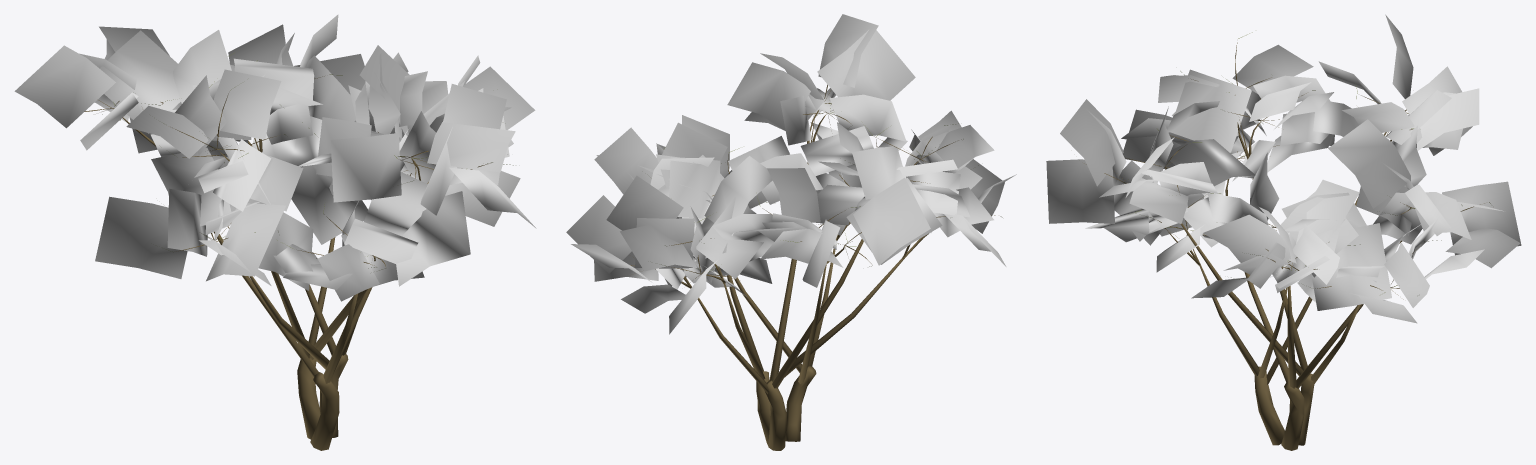
Rendered from V7_Lentisque_2_Niveau2.fbx.
3 renders of one model, left to right at view 1: azimuth 30°, elevation 25°; view 2: azimuth 150°, elevation 25°; view 3: azimuth 270°, elevation 25°, orthographic. The views are drawn at different scales.
Parts seen in each view (by area): view 1: V7_Lentisque_2_Detail2; view 2: V7_Lentisque_2_Detail2; view 3: V7_Lentisque_2_Detail2.
Boxes of the visible parts, left/top/right/bottom form: V7_Lentisque_2_Detail2: left=14, top=14, right=536, bottom=450; V7_Lentisque_2_Detail2: left=566, top=14, right=1016, bottom=450; V7_Lentisque_2_Detail2: left=1046, top=14, right=1521, bottom=450.
Size of the model in its own units: 263 by 225 by 278.
